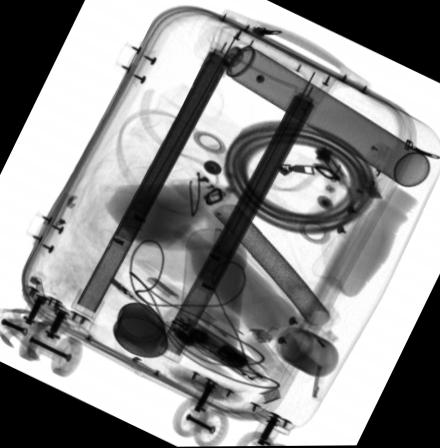Sprayer: (193, 25, 429, 186)
